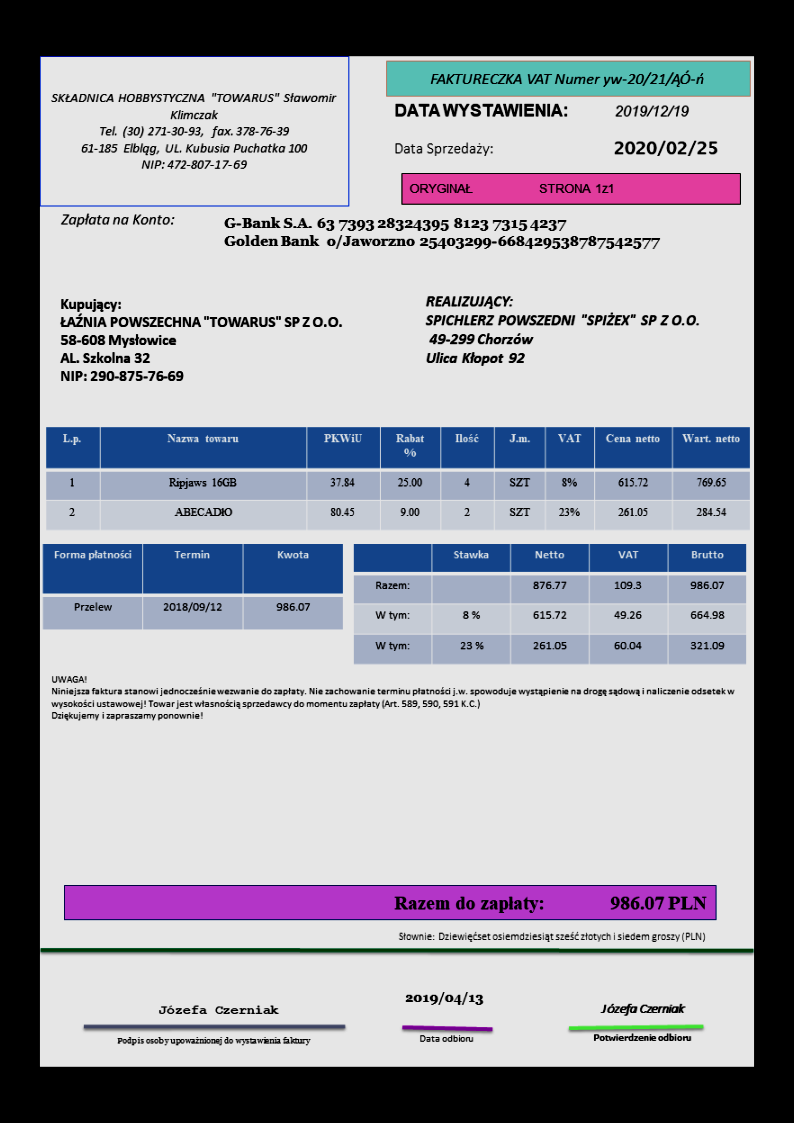Table: (44, 423, 750, 533), (353, 542, 749, 666), (42, 542, 343, 632)
TextBox: (49, 671, 737, 724), (58, 294, 344, 384), (46, 88, 340, 173), (423, 291, 702, 368), (222, 212, 662, 254), (392, 890, 708, 915), (426, 66, 708, 90), (396, 927, 709, 945), (392, 98, 571, 121), (406, 178, 618, 197), (114, 1033, 312, 1047), (611, 135, 720, 158), (392, 137, 495, 159), (60, 209, 175, 227), (611, 99, 693, 121), (156, 1002, 280, 1016), (597, 998, 688, 1017), (402, 989, 484, 1009), (590, 1030, 695, 1045), (416, 1031, 476, 1044)
